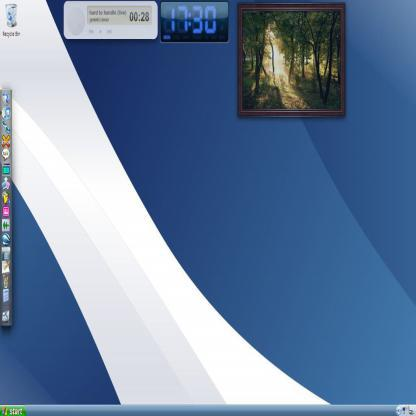Picture-frame: (237, 5, 347, 121)
